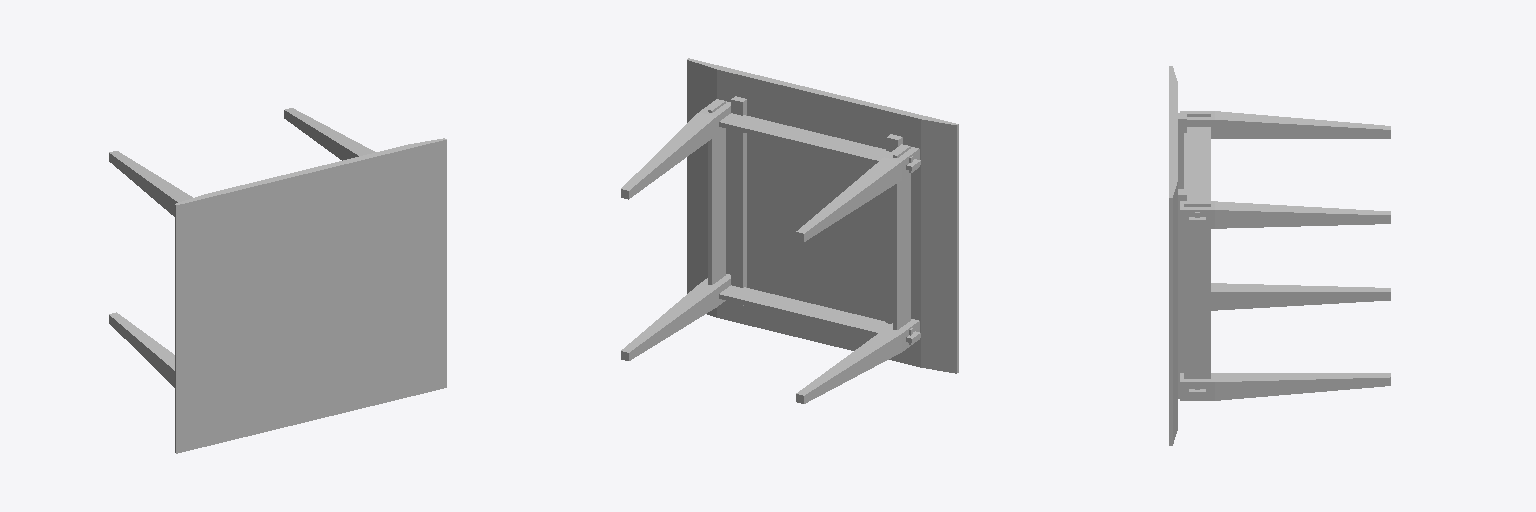
Rendered from table.obj.
The picture shows the model from 3 angles: view 1: azimuth 30°, elevation 25°; view 2: azimuth 150°, elevation 25°; view 3: azimuth 270°, elevation 25°; orthographic projection.
Bounding box in the file's own units: 115 × 101 × 81.95.